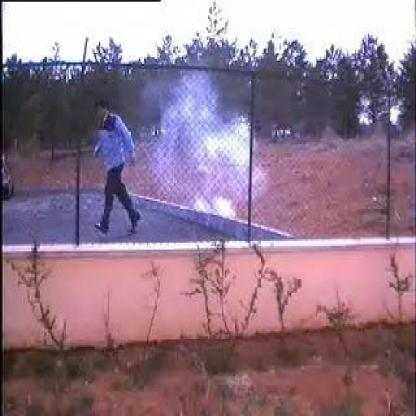-: (155, 82, 251, 206)
